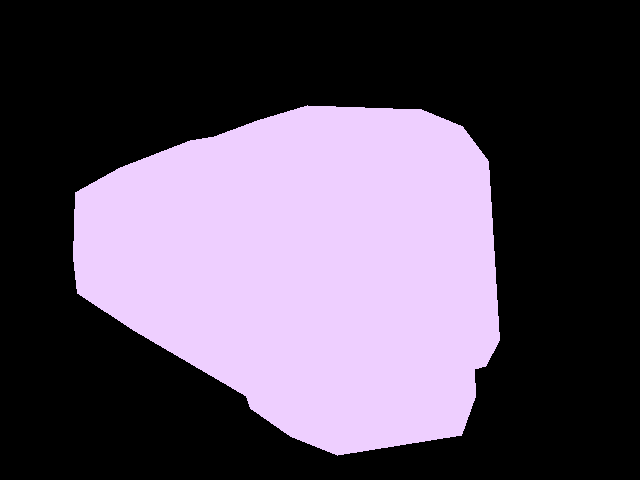Train: (73, 105, 500, 455)
